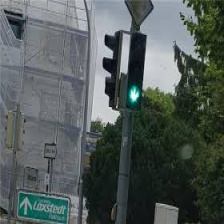semaforo: (126, 31, 146, 108)
